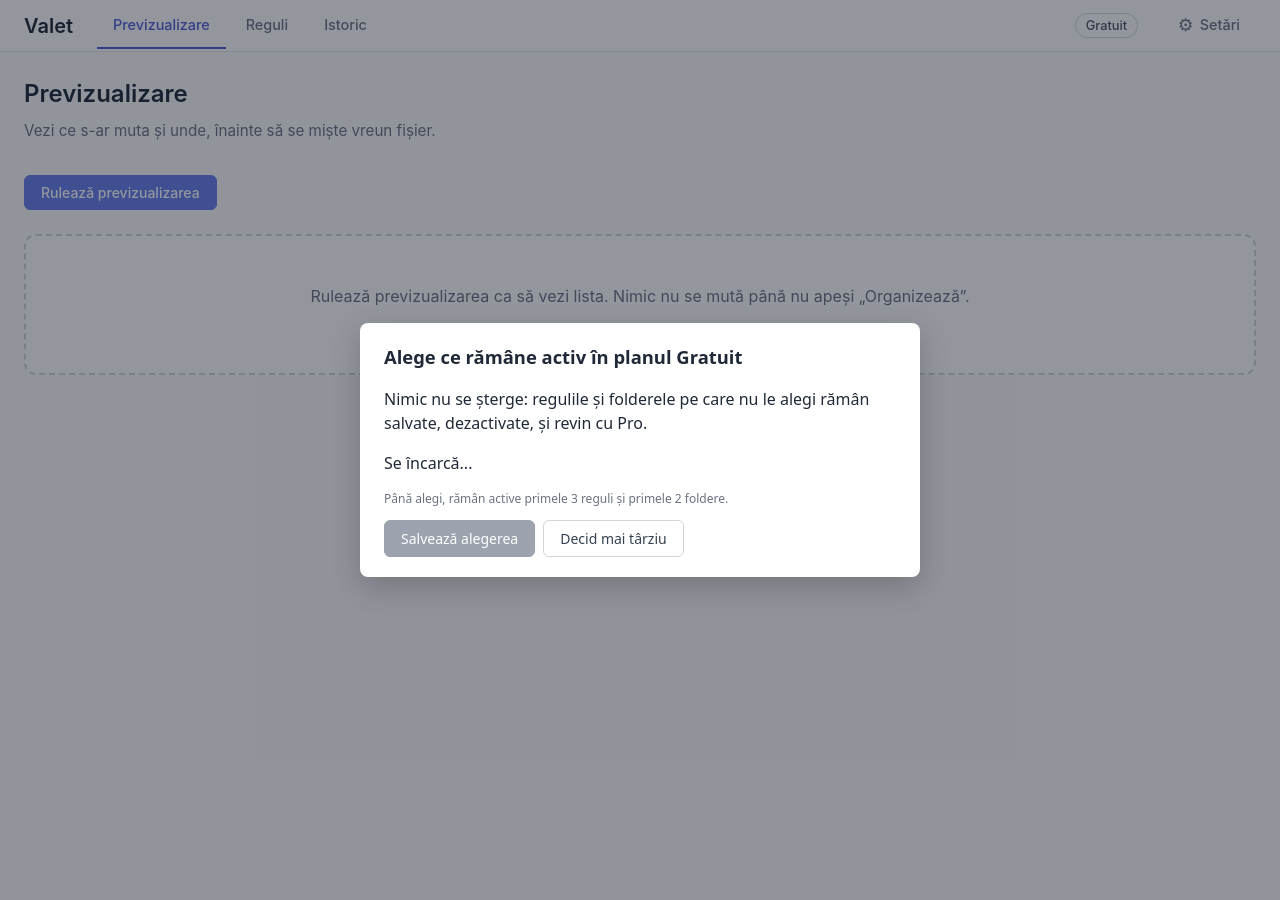
Test: App › asks what stays active when the choice is pending, and again after decide later on a plan change
The image size is (1280, 900).
Press Escape in the dialog "Alege ce rămâne activ în planul Gratuit", box x1=360 y1=323 x2=920 y2=577
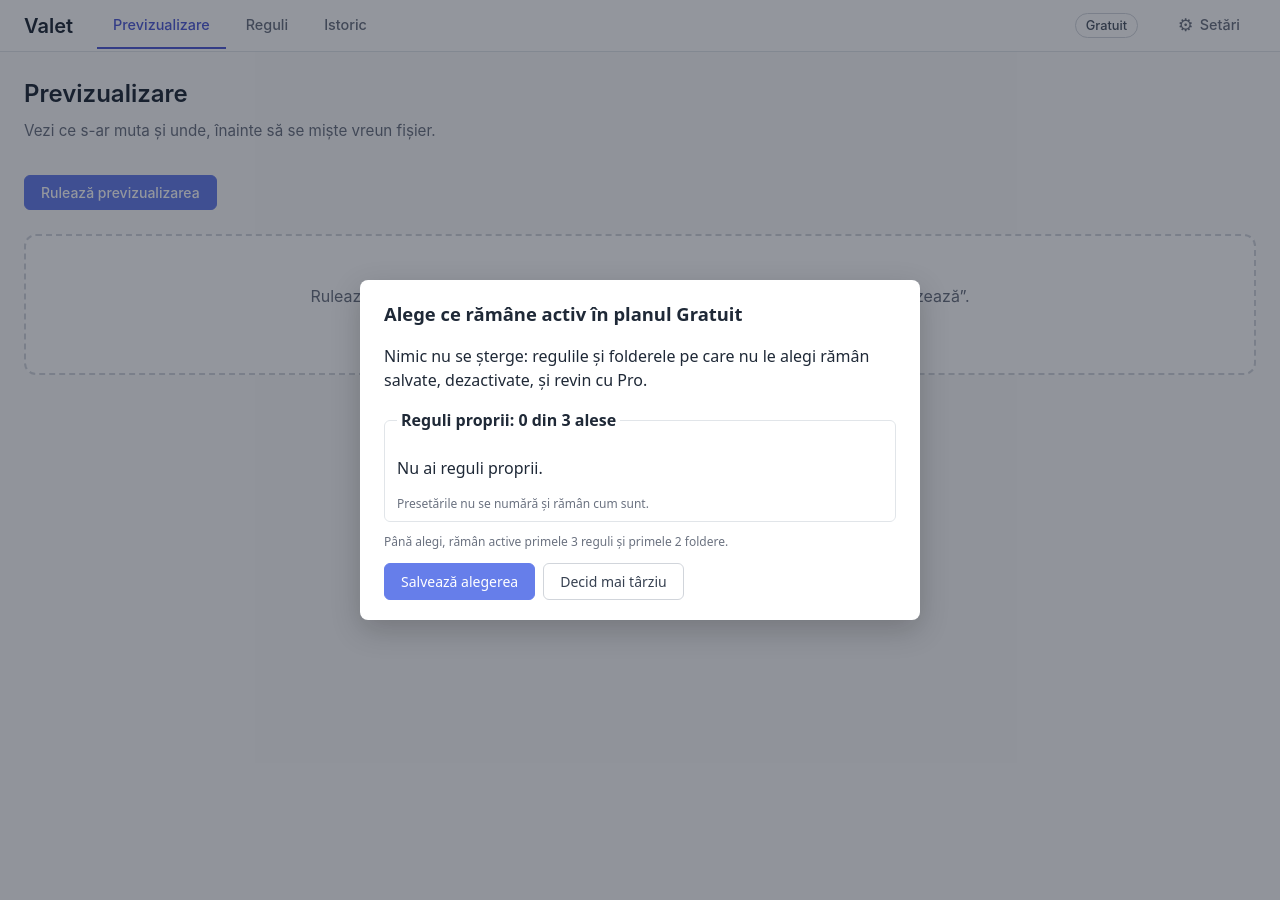
Expected: the dialog is shown, x1=360 y1=280 x2=920 y2=620
Now the text "Nu ai reguli proprii." is shown, box x1=397 y1=457 x2=543 y2=479
Click the button with test id "plan-choice-save" at (460, 581), box x1=384 y1=563 x2=535 y2=600
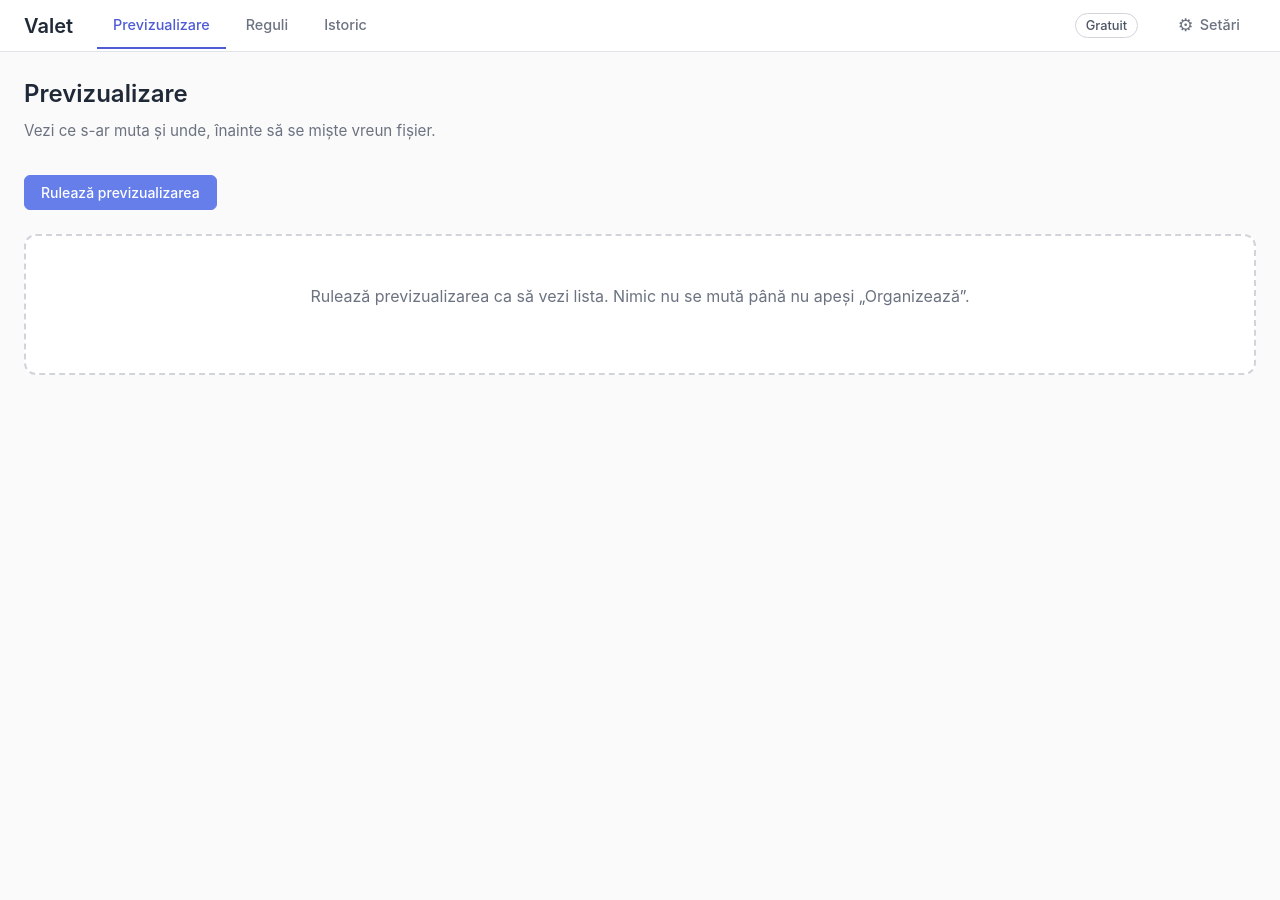
Now the dialog is gone
